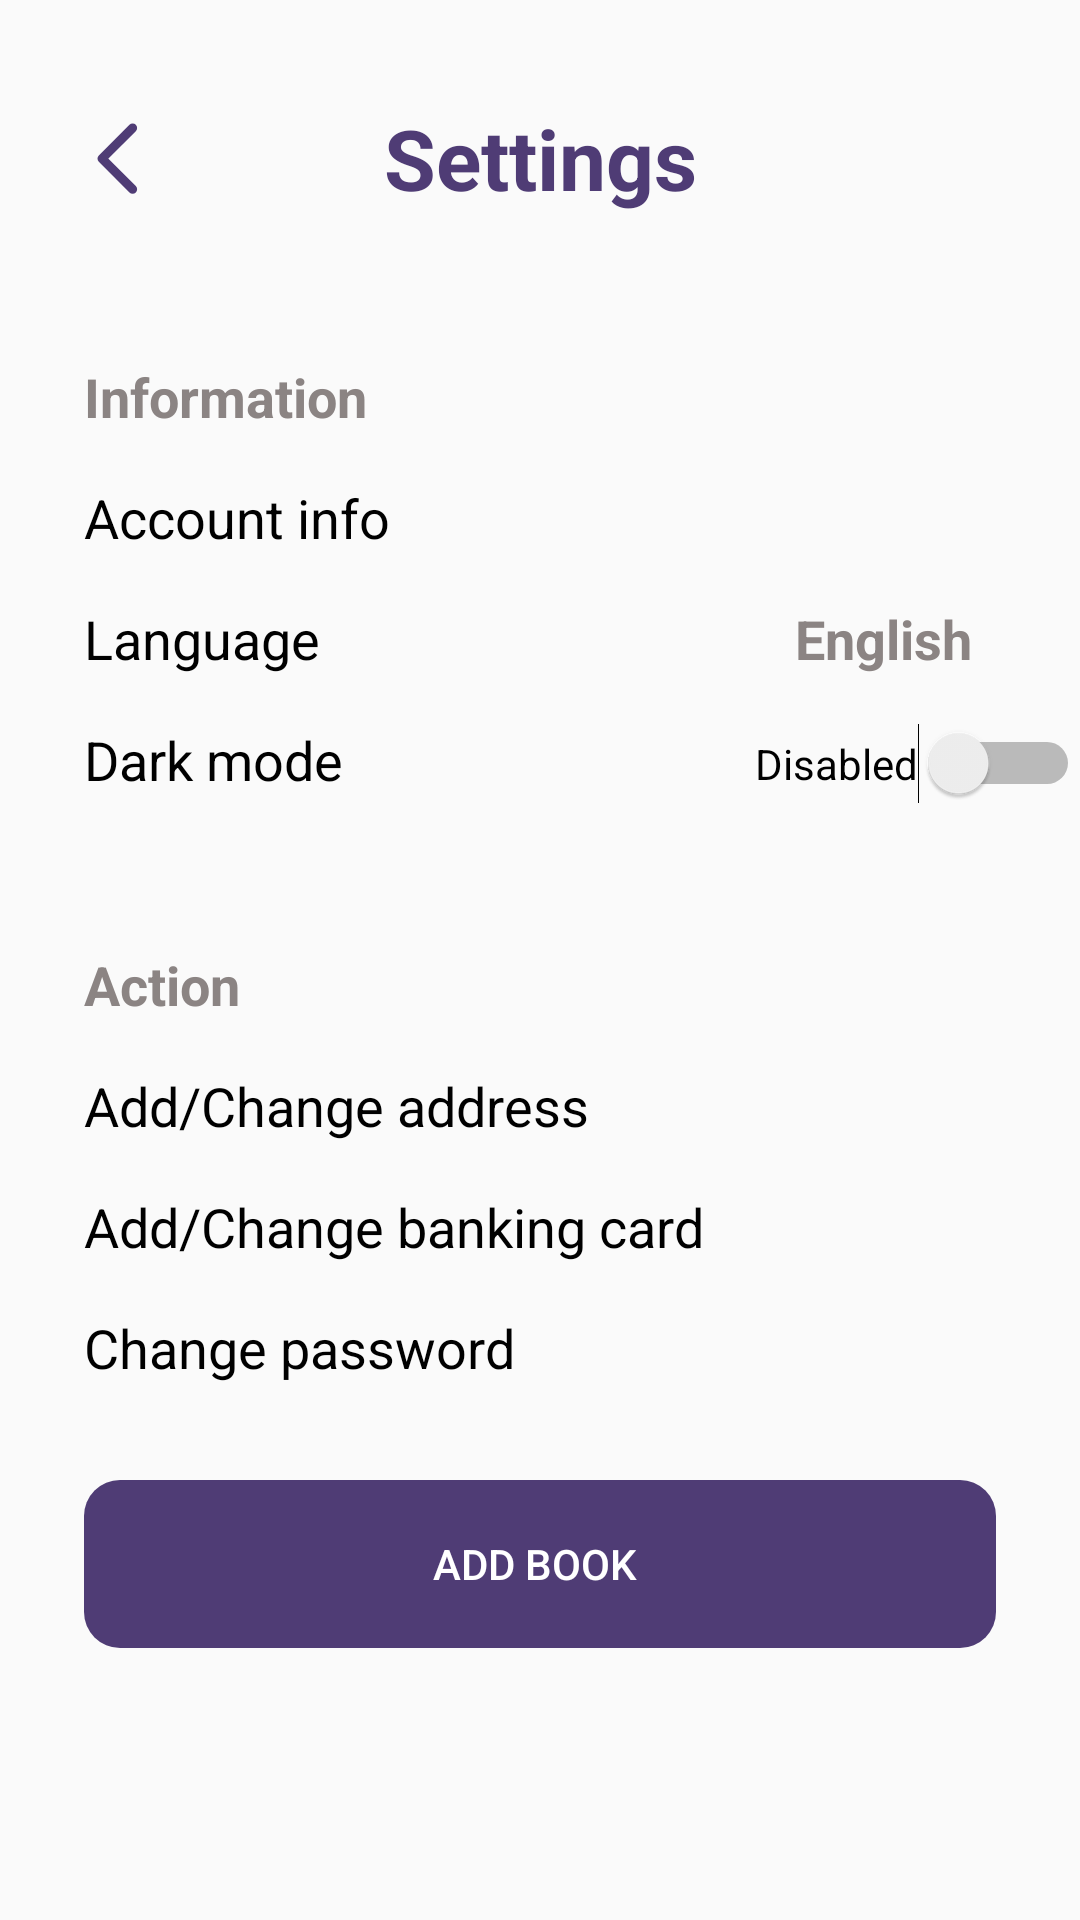

Where icons sit on this 1080px x 1920px app screen, as {"x1": x1, "y1": y1, "x2": x2, "y2": y2}:
goback: {"x1": 97, "y1": 123, "x2": 137, "y2": 194}
